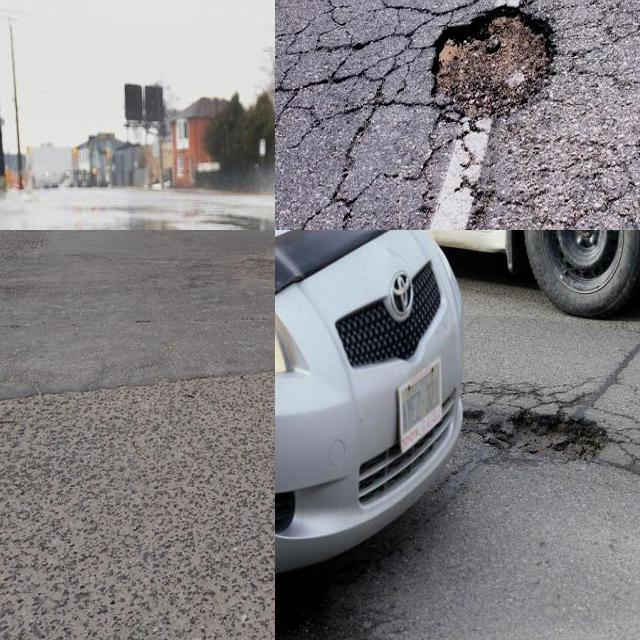Pothole: (432, 5, 556, 120), (465, 407, 611, 462)
